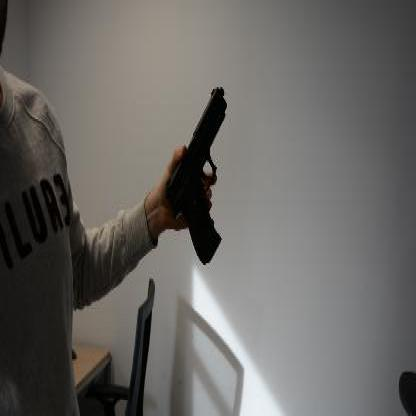pistol: (164, 84, 226, 264)
